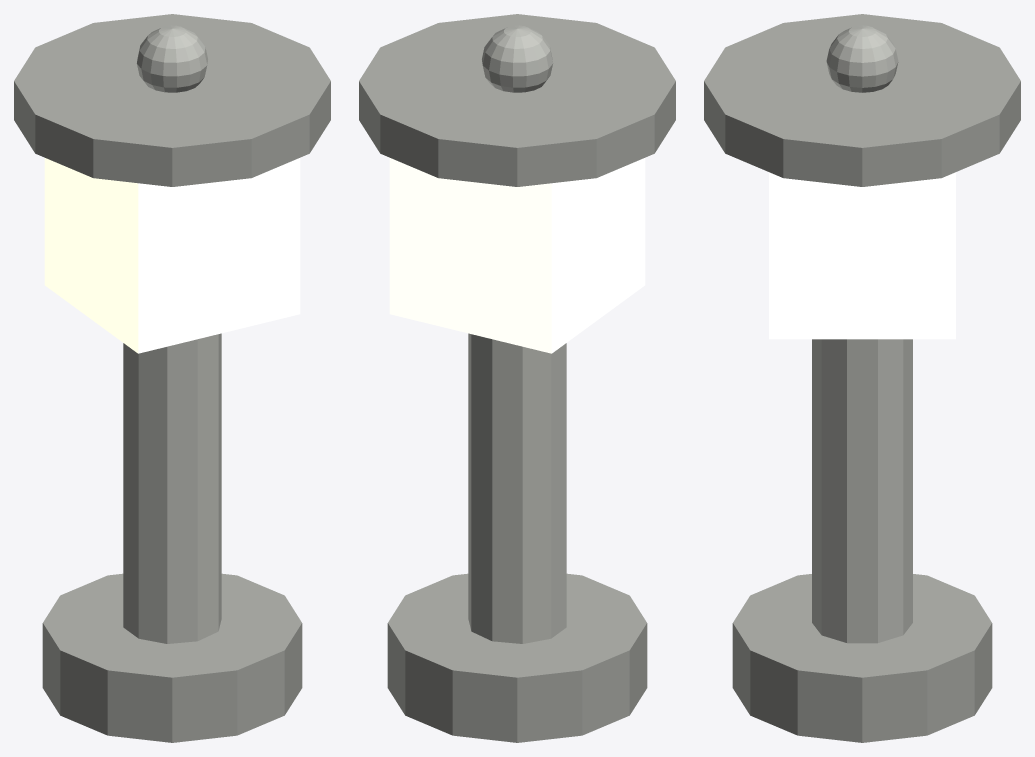
The model's file is stone_lantern.glb.
3 renders of one model, left to right at view 1: azimuth 30°, elevation 25°; view 2: azimuth 150°, elevation 25°; view 3: azimuth 270°, elevation 25°, orthographic.
Visible parts, largest first — view 1: stone_lantern; view 2: stone_lantern; view 3: stone_lantern.
Boxes of the visible parts, x1,y1,x2,y2 form: stone_lantern: (14,14,330,742); stone_lantern: (359,14,675,742); stone_lantern: (704,14,1020,742).
Size of the model in its own units: 0.88 by 2.02 by 0.88.
